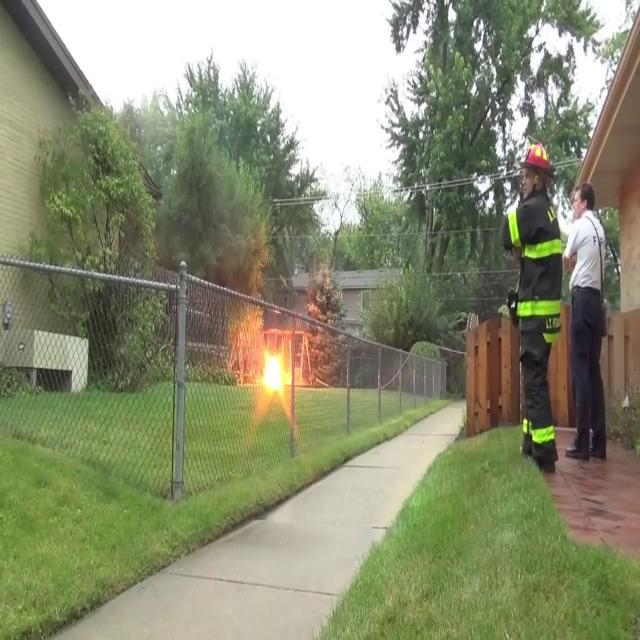Fire: (248, 327, 306, 402)
